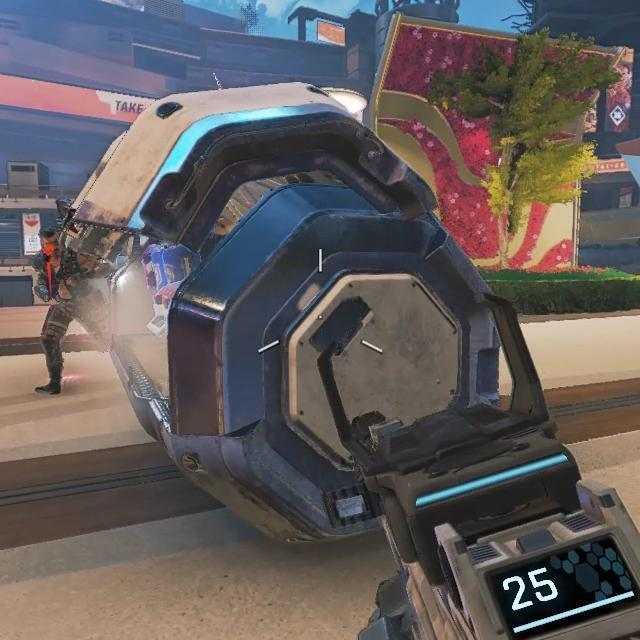avatar: (29, 223, 94, 396)
